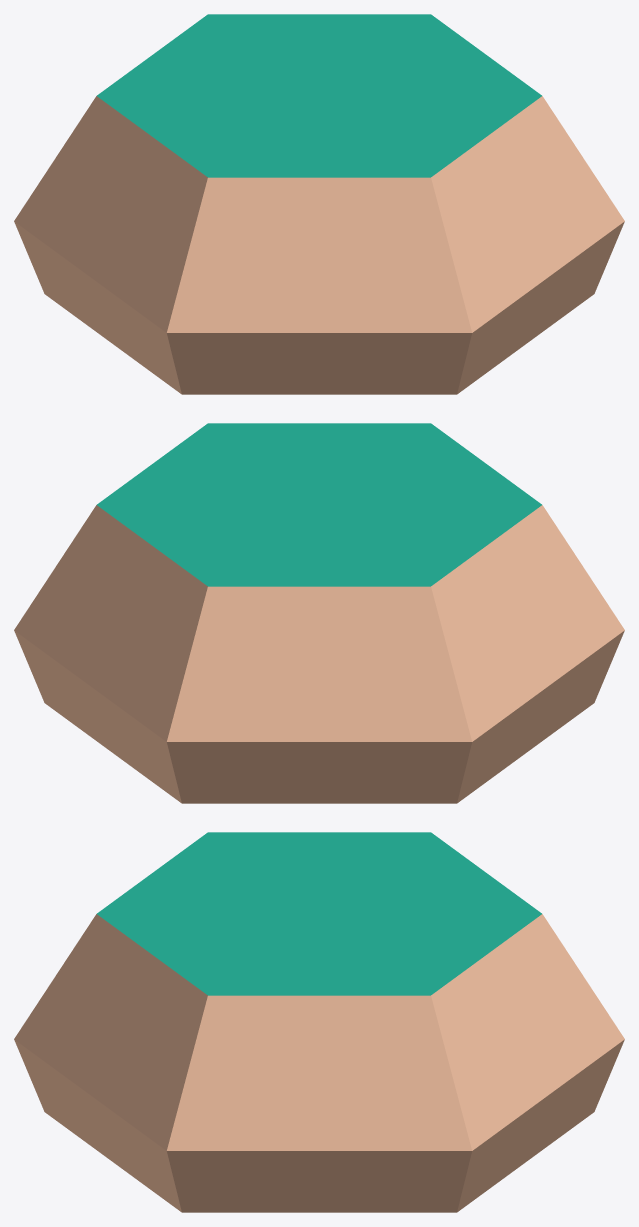
Rendered from rock_smallG.glb.
3 views of the same model, one above another, from view 1: azimuth 30°, elevation 25°; view 2: azimuth 150°, elevation 25°; view 3: azimuth 270°, elevation 25° (orthographic).
Visible parts, largest first — view 1: rock_smallG; view 2: rock_smallG; view 3: rock_smallG.
Part boxes in pixels (left/top/right/bottom): rock_smallG: left=14, top=14, right=624, bottom=394; rock_smallG: left=14, top=423, right=624, bottom=803; rock_smallG: left=14, top=832, right=624, bottom=1212.
Size of the model in its own units: 0.7124 by 0.2944 by 0.8226.
